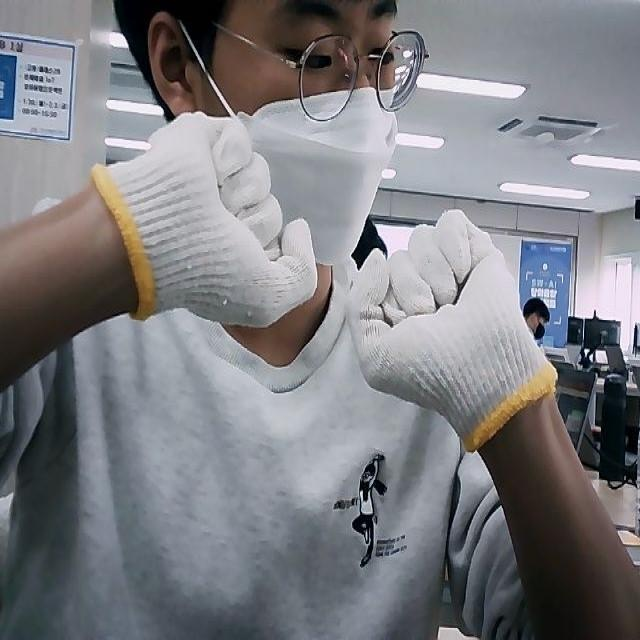Guantes: (352, 209, 560, 447), (93, 112, 316, 328)
